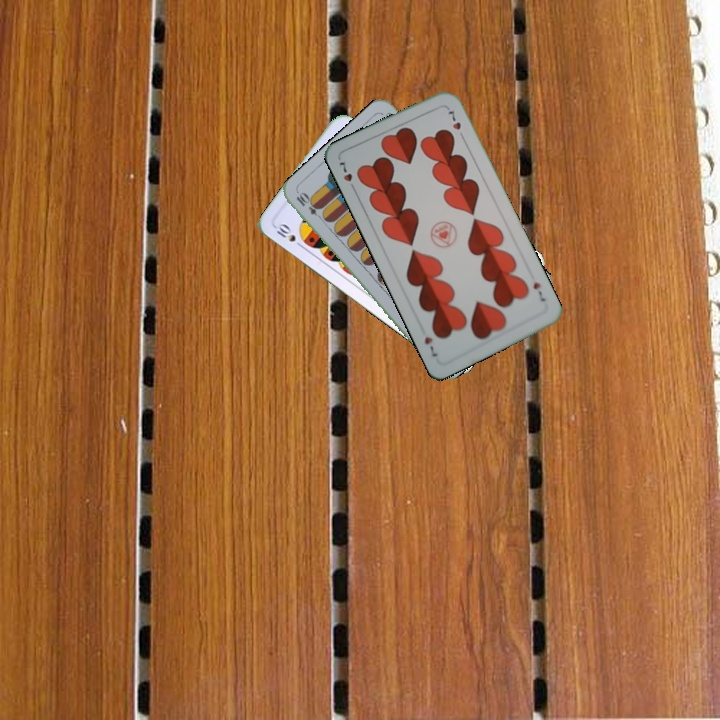E10: (292, 189, 326, 223)
H7: (335, 156, 358, 194), (529, 278, 548, 304)
S10: (271, 219, 306, 251)
